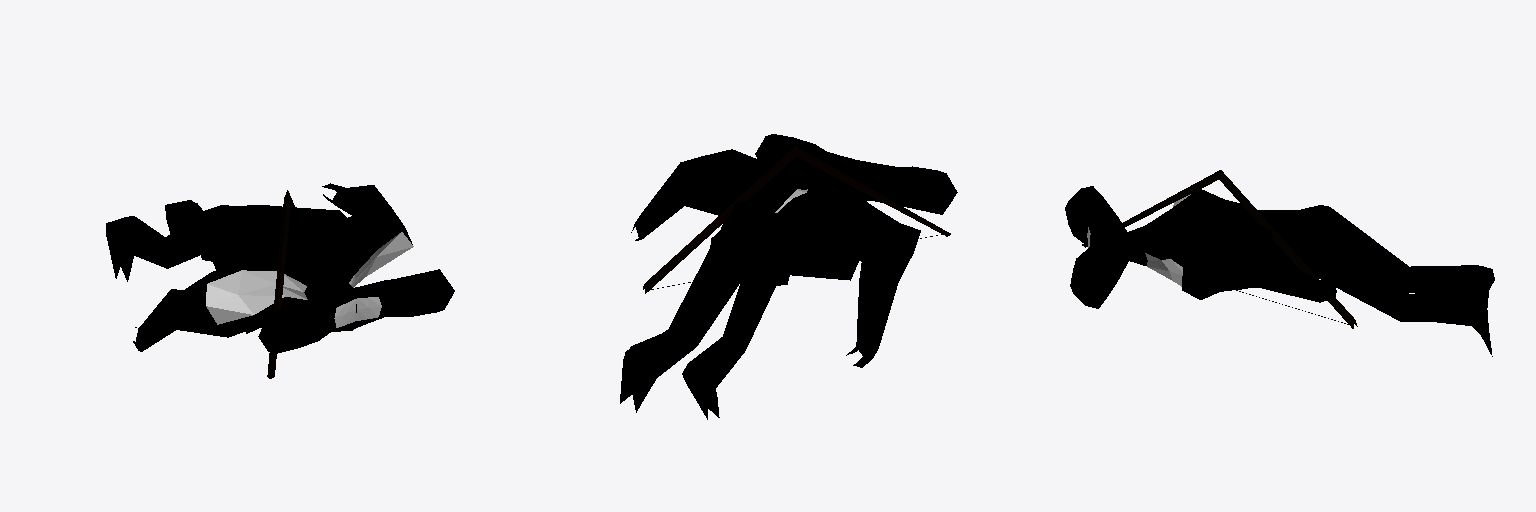
The model's file is Archer1d.obj.
3 renders of one model, left to right at view 1: azimuth 30°, elevation 25°; view 2: azimuth 150°, elevation 25°; view 3: azimuth 270°, elevation 25°, orthographic.
Parts seen in each view (by area): view 1: Cube, Plane.001_Bow; view 2: Cube, Plane.001_Bow; view 3: Cube, Plane.001_Bow.
Part boxes in pixels (bbox=[...]): Cube: bbox=[106, 183, 454, 353]; Plane.001_Bow: bbox=[267, 190, 295, 378]; Cube: bbox=[620, 134, 957, 419]; Plane.001_Bow: bbox=[643, 146, 950, 293]; Cube: bbox=[1065, 186, 1494, 356]; Plane.001_Bow: bbox=[1082, 170, 1357, 328].
Bounding box in the file's own units: 0.9564 × 0.6919 × 1.54.